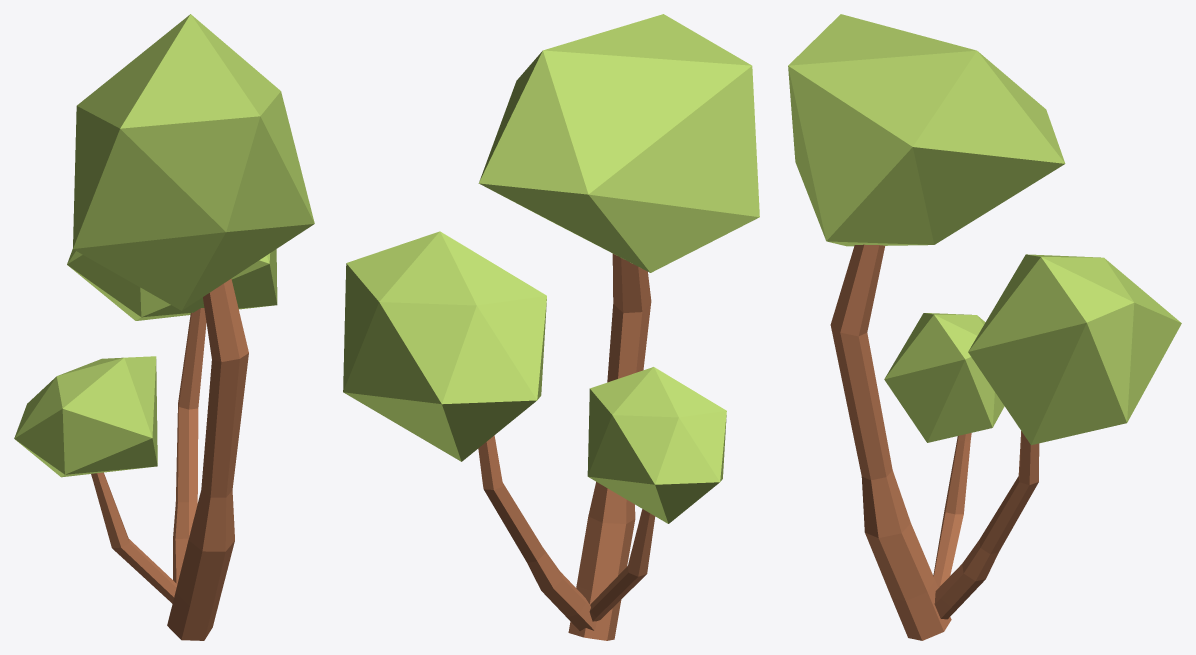
Rendered from Tree_7.fbx.
3 renders of one model, left to right at view 1: azimuth 30°, elevation 25°; view 2: azimuth 150°, elevation 25°; view 3: azimuth 270°, elevation 25°, orthographic.
Parts seen in each view (by area): view 1: Icosphere.001; view 2: Icosphere.001; view 3: Icosphere.001.
Boxes of the visible parts, left/top/right/bottom form: Icosphere.001: left=14, top=14, right=314, bottom=640; Icosphere.001: left=343, top=14, right=759, bottom=640; Icosphere.001: left=788, top=14, right=1181, bottom=640.
Bounding box in the file's own units: 172 × 310 × 185.
